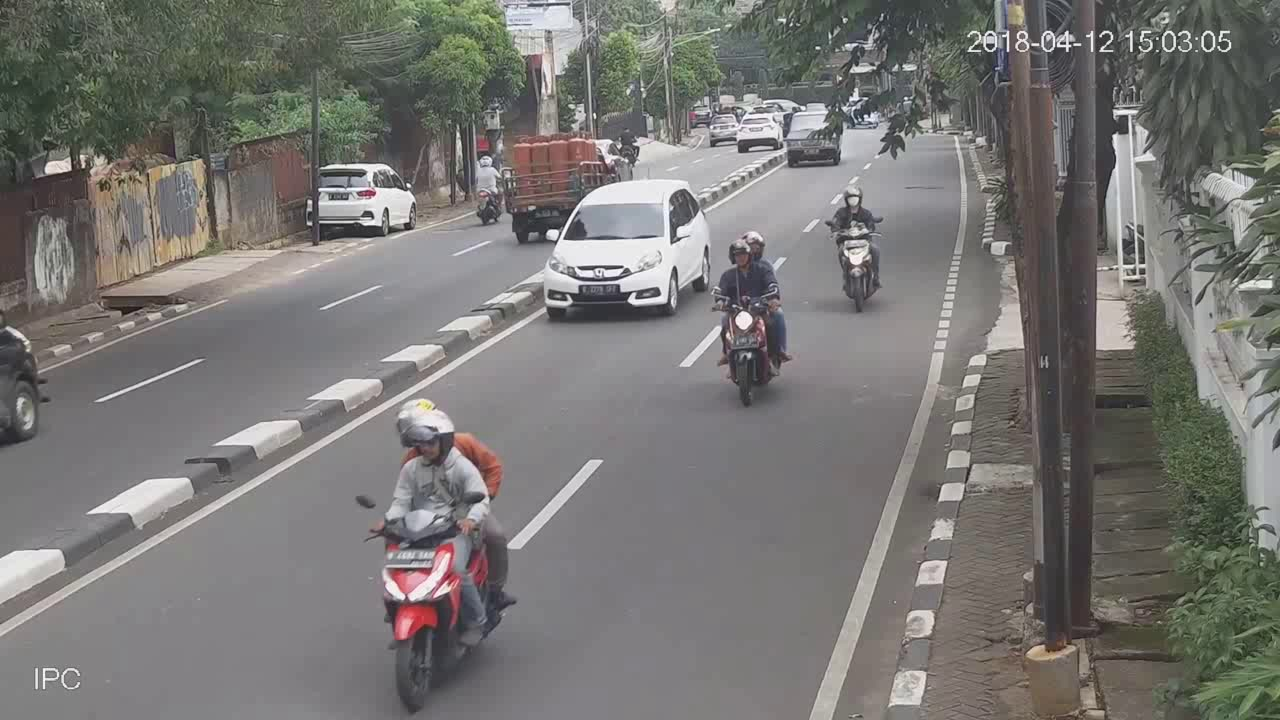car: (541, 178, 710, 322), (305, 157, 420, 239), (785, 108, 842, 169), (738, 112, 780, 153), (710, 116, 739, 145)
motorcycle: (354, 396, 520, 714), (711, 231, 796, 409), (822, 180, 891, 319), (473, 150, 503, 232)
truck: (508, 135, 587, 238)
